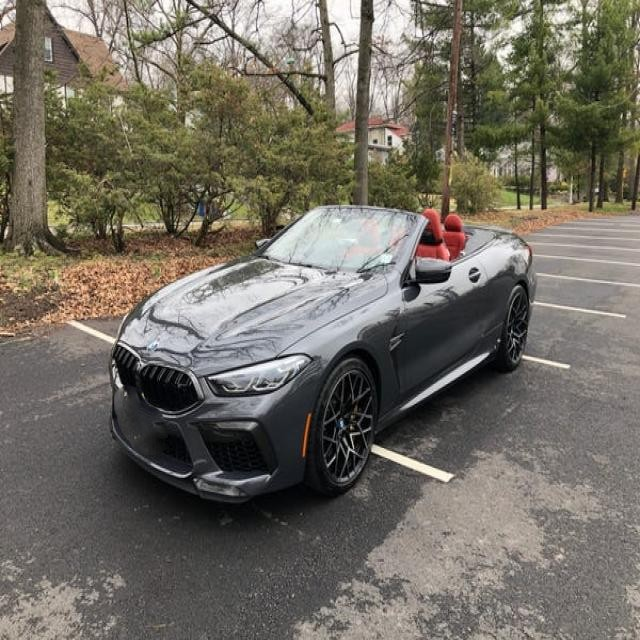car: (109, 203, 538, 509)
